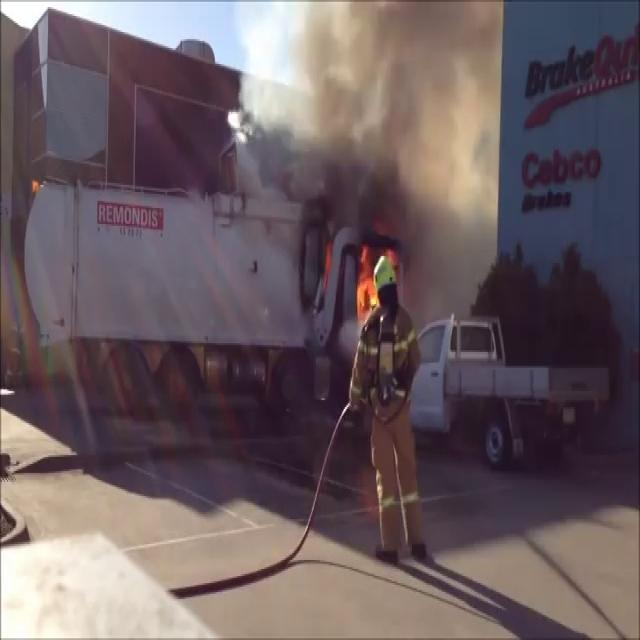Fire: (352, 242, 384, 326)
Smoke: (239, 0, 500, 308)
